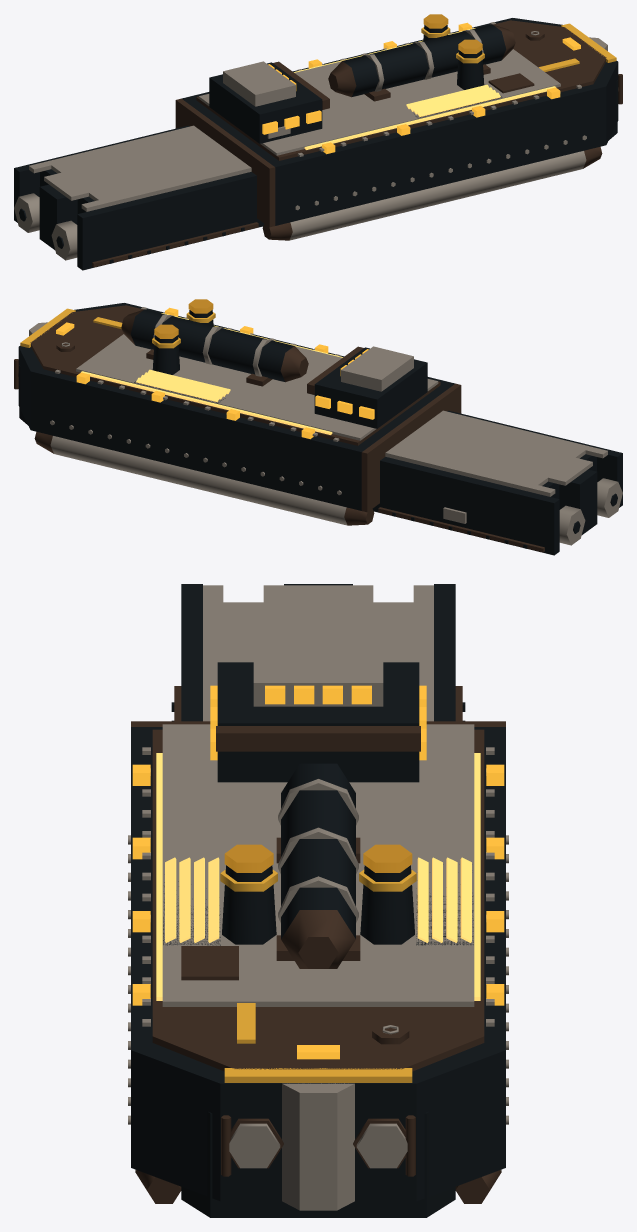
Rendered from caisson-bathyarch.glb.
The picture shows the model from 3 angles, top to bottom: view 1: azimuth 30°, elevation 25°; view 2: azimuth 150°, elevation 25°; view 3: azimuth 270°, elevation 25°; orthographic projection. The views are drawn at different scales.
Visible parts, largest first — view 1: caisson, hull_lower, deck, caisson_course_1, ballast_s, caisson_course_0, plant_cylinder, citadel, caisson_shoulder, citadel_top, flood_strip_s, strake_s (+9 smaller); view 2: caisson, hull_lower, deck, caisson_course_1, ballast_p, caisson_course_0, plant_cylinder, citadel, caisson_shoulder, citadel_top, flood_strip_p, strake_p (+8 smaller); view 3: caisson_course_1, caisson, caisson_course_0, deck, citadel, hull_lower, plough_plate, plant_cylinder, citadel_top, citadel_visor, plant_head_f, stack_s (+22 smaller).
Boxes of the visible parts, bbox=[...] form: caisson: bbox=[181, 18, 618, 225]; hull_lower: bbox=[14, 80, 617, 270]; deck: bbox=[29, 125, 251, 211]; caisson_course_1: bbox=[198, 49, 560, 155]; ballast_s: bbox=[289, 151, 586, 240]; caisson_course_0: bbox=[196, 20, 606, 160]; plant_cylinder: bbox=[343, 24, 506, 96]; citadel: bbox=[209, 62, 322, 143]; caisson_shoulder: bbox=[175, 98, 275, 227]; citadel_top: bbox=[223, 61, 295, 106]; flood_strip_s: bbox=[304, 86, 555, 149]; strake_s: bbox=[92, 222, 258, 267]; caisson: bbox=[18, 303, 455, 510]; hull_lower: bbox=[19, 365, 622, 555]; deck: bbox=[385, 410, 607, 496]; caisson_course_1: bbox=[76, 334, 438, 440]; ballast_p: bbox=[50, 436, 347, 525]; caisson_course_0: bbox=[30, 305, 440, 445]; plant_cylinder: bbox=[130, 309, 293, 381]; citadel: bbox=[314, 347, 427, 428]; caisson_shoulder: bbox=[361, 383, 461, 512]; citadel_top: bbox=[341, 346, 413, 391]; flood_strip_p: bbox=[81, 371, 332, 434]; strake_p: bbox=[378, 507, 544, 552]; caisson_course_1: bbox=[162, 724, 474, 1006]; caisson: bbox=[131, 727, 505, 1201]; caisson_course_0: bbox=[152, 729, 484, 1071]; deck: bbox=[203, 585, 433, 721]; citadel: bbox=[217, 662, 419, 782]; hull_lower: bbox=[181, 584, 455, 1217]; plough_plate: bbox=[282, 1083, 354, 1210]; plant_cylinder: bbox=[281, 763, 355, 938]; citadel_top: bbox=[253, 643, 383, 706]; citadel_visor: bbox=[216, 726, 420, 751]; plant_head_f: bbox=[281, 910, 355, 968]; stack_s: bbox=[222, 865, 276, 944].
Size of the model in its own units: 90 by 19.66 by 26.4.
